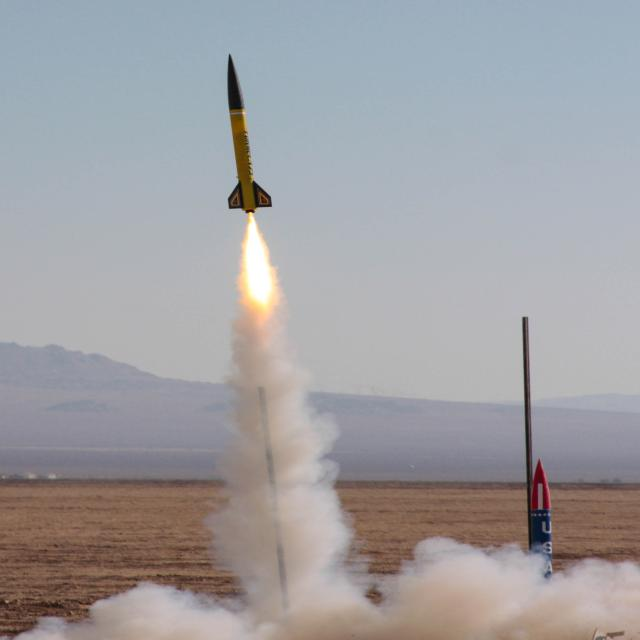Rocket: (225, 53, 275, 213), (528, 456, 556, 576)
